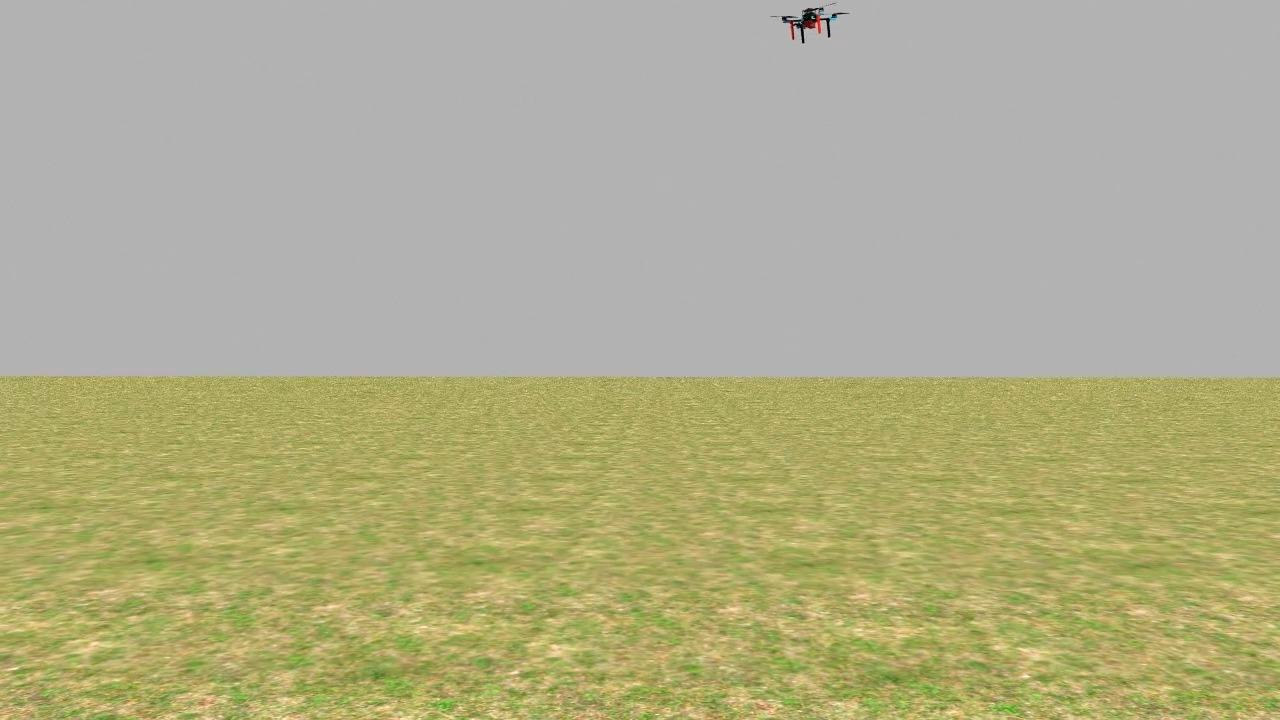UAV: (773, 0, 850, 59)
